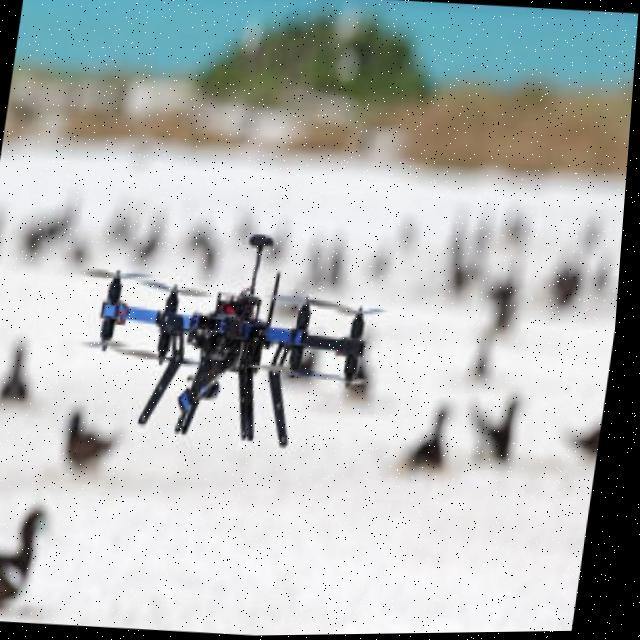drones: (61, 199, 403, 463)
